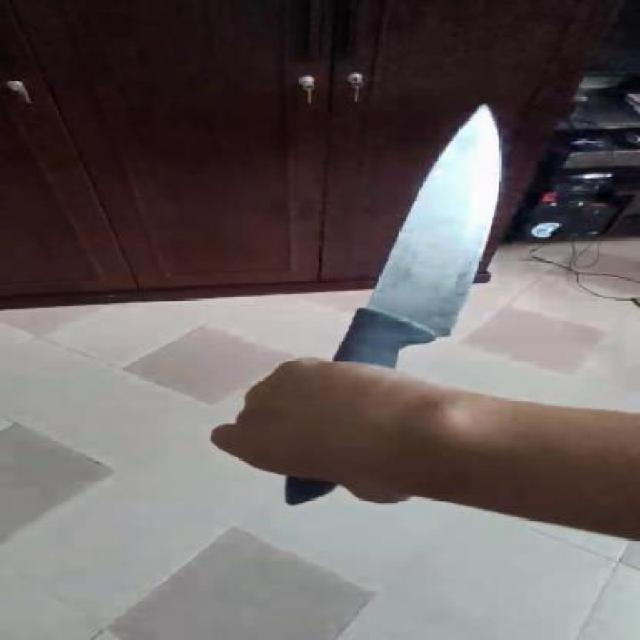knife: (308, 103, 530, 366)
